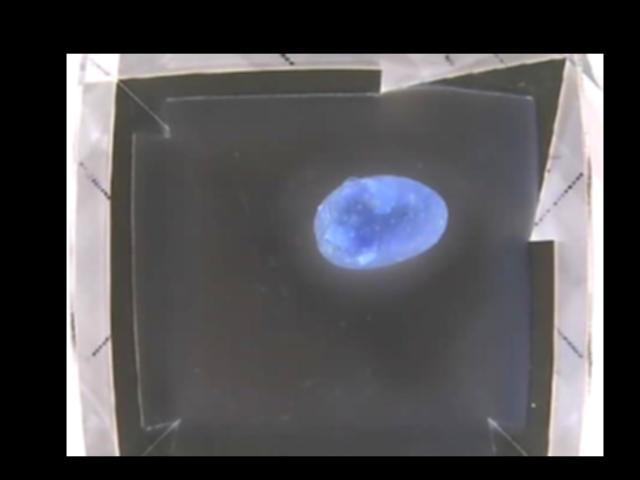Potato: (311, 172, 448, 271)
